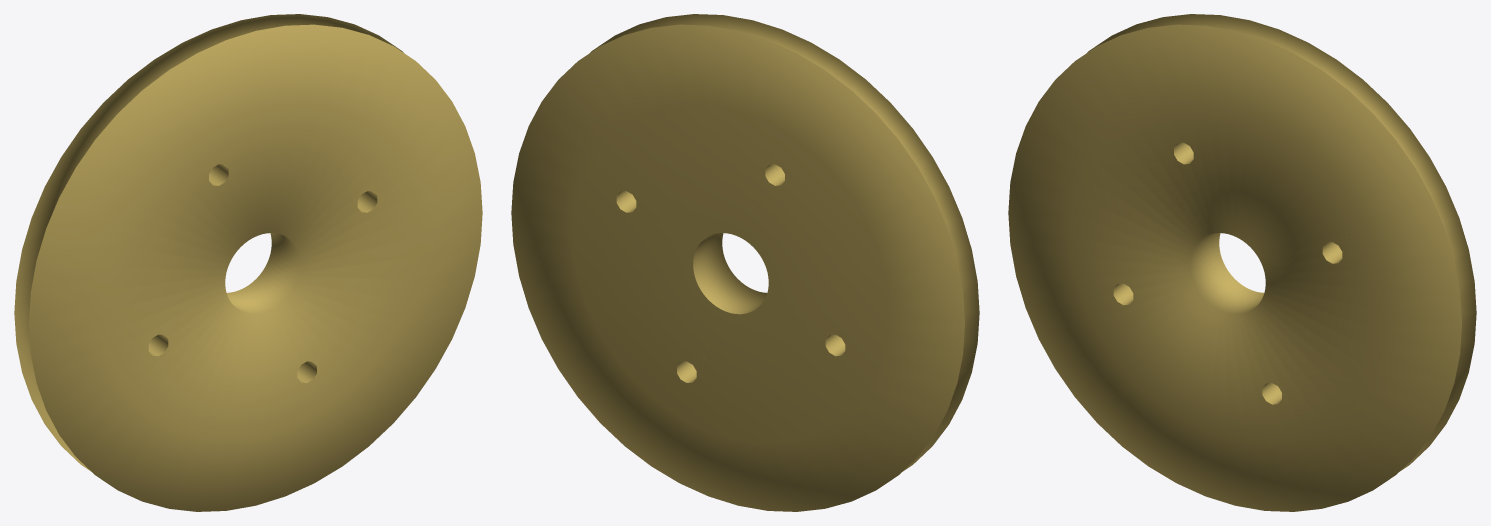
File: air-pump-pulley.glb
3 views of the same model, side by side, from view 1: azimuth 30°, elevation 25°; view 2: azimuth 150°, elevation 25°; view 3: azimuth 330°, elevation 25° (orthographic).
Visible parts, largest first — view 1: air-pump-pulley:yellowZinc; view 2: air-pump-pulley:yellowZinc; view 3: air-pump-pulley:yellowZinc.
Boxes of the visible parts, <box> form: air-pump-pulley:yellowZinc: <box>14,14,482,511</box>; air-pump-pulley:yellowZinc: <box>511,14,979,511</box>; air-pump-pulley:yellowZinc: <box>1008,14,1476,511</box>.
Size of the model in its own units: 144 by 144 by 16.
